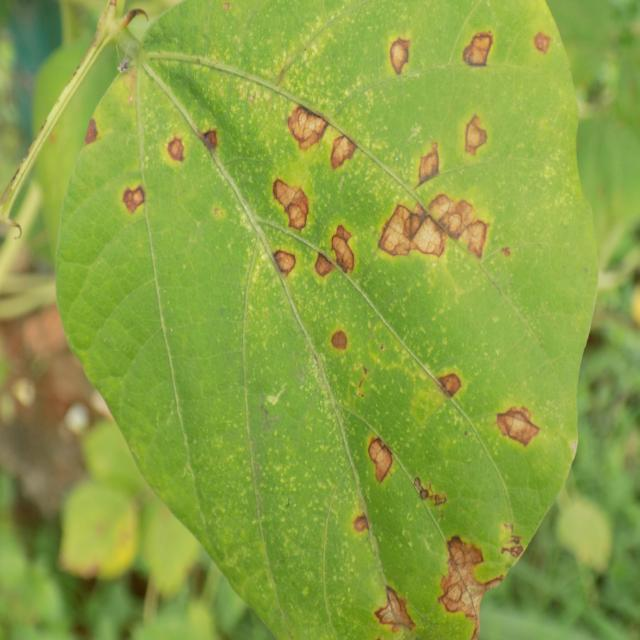Dolicos bean_cercospora leaf spot: (59, 0, 604, 640)
